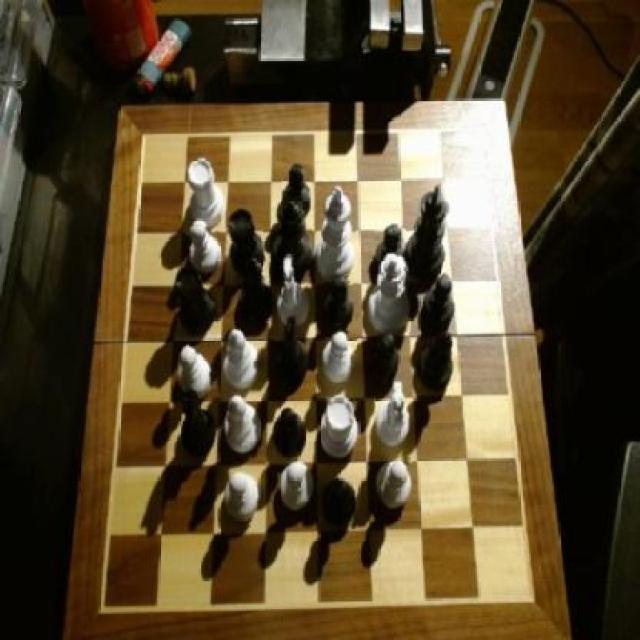bishop: (415, 331, 458, 393), (237, 255, 271, 322)
black-bishop: (406, 186, 449, 282)
black-king: (176, 386, 217, 453), (274, 314, 308, 384)
black-knight: (320, 477, 358, 530), (423, 277, 458, 330), (321, 275, 354, 330), (281, 165, 314, 220), (371, 332, 403, 386), (274, 406, 306, 457), (377, 226, 408, 270)
black-pawn: (272, 202, 313, 279)
black-queen: (174, 269, 217, 333), (224, 206, 264, 273)
black-rook: (223, 326, 260, 390), (224, 394, 262, 451)
white-bishop: (317, 183, 357, 282)
white-king: (277, 255, 311, 328), (375, 379, 410, 446)
white-knight: (188, 216, 223, 280), (376, 456, 412, 516), (177, 344, 213, 402), (322, 328, 356, 388), (226, 472, 262, 526), (278, 461, 314, 514)
white-pawn: (366, 254, 410, 336)
white-queen: (188, 157, 225, 226), (322, 395, 359, 460)
